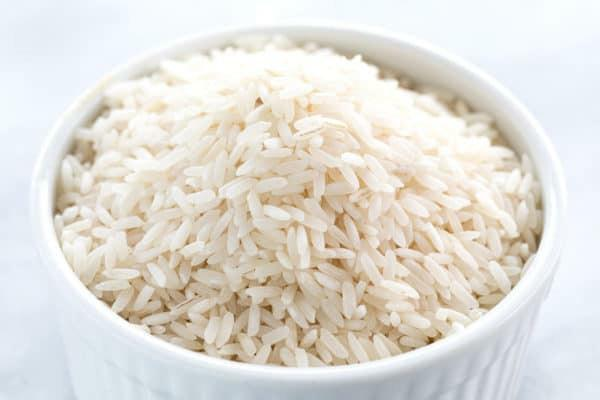WhiteRice: (59, 39, 544, 368)
